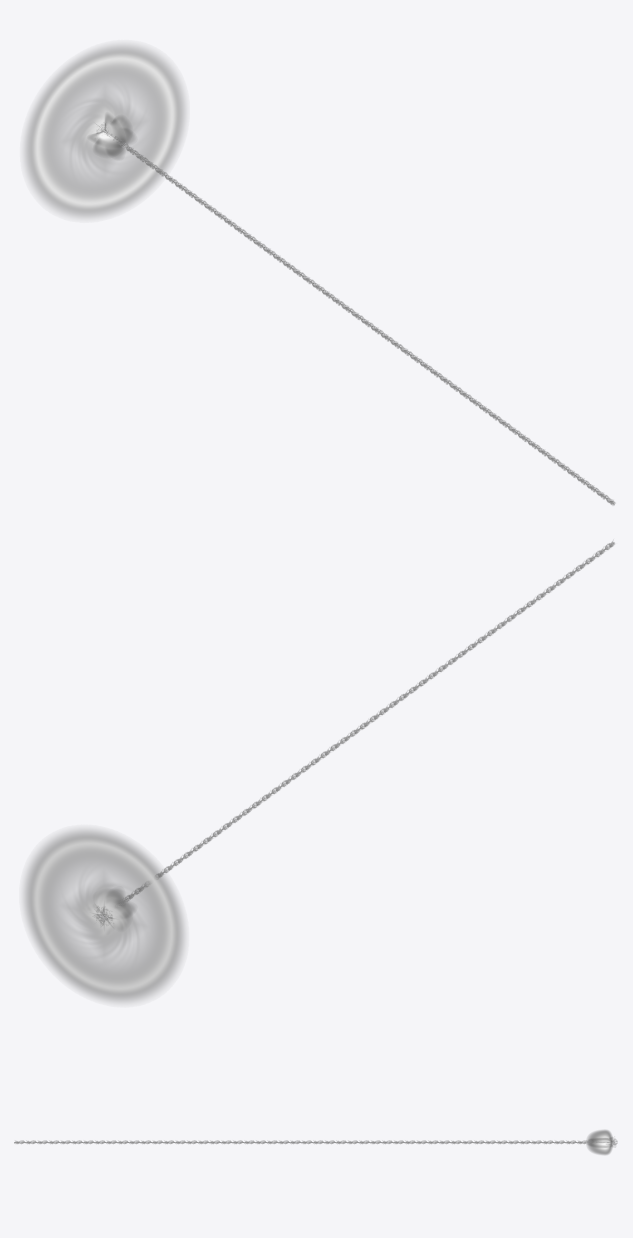
Rendered from si_ees_2710.glb.
3 renders of one model, top to bottom at view 1: azimuth 30°, elevation 25°; view 2: azimuth 150°, elevation 25°; view 3: azimuth 270°, elevation 25°, orthographic. The views are drawn at different scales.
Visible parts, largest first — view 1: layer_04_si_est_0402, layer_00_si_ees_2700, layer_02_si_est_0103; view 2: layer_04_si_est_0402, layer_00_si_ees_2700; view 3: layer_00_si_ees_2700, layer_02_si_est_0103.
Part boxes in pixels (x1=…): layer_04_si_est_0402: x1=25, y1=45, x2=184, y2=217; layer_00_si_ees_2700: x1=104, y1=130, x2=615, y2=505; layer_02_si_est_0103: x1=89, y1=114, x2=134, y2=157; layer_04_si_est_0402: x1=24, y1=830, x2=184, y2=1001; layer_00_si_ees_2700: x1=119, y1=541, x2=614, y2=905; layer_00_si_ees_2700: x1=14, y1=1140, x2=609, y2=1143; layer_02_si_est_0103: x1=586, y1=1130, x2=612, y2=1154.
Size of the model in its own units: 6400 by 6400 by 31600.
Materials: 6 (6 with a texture image).
